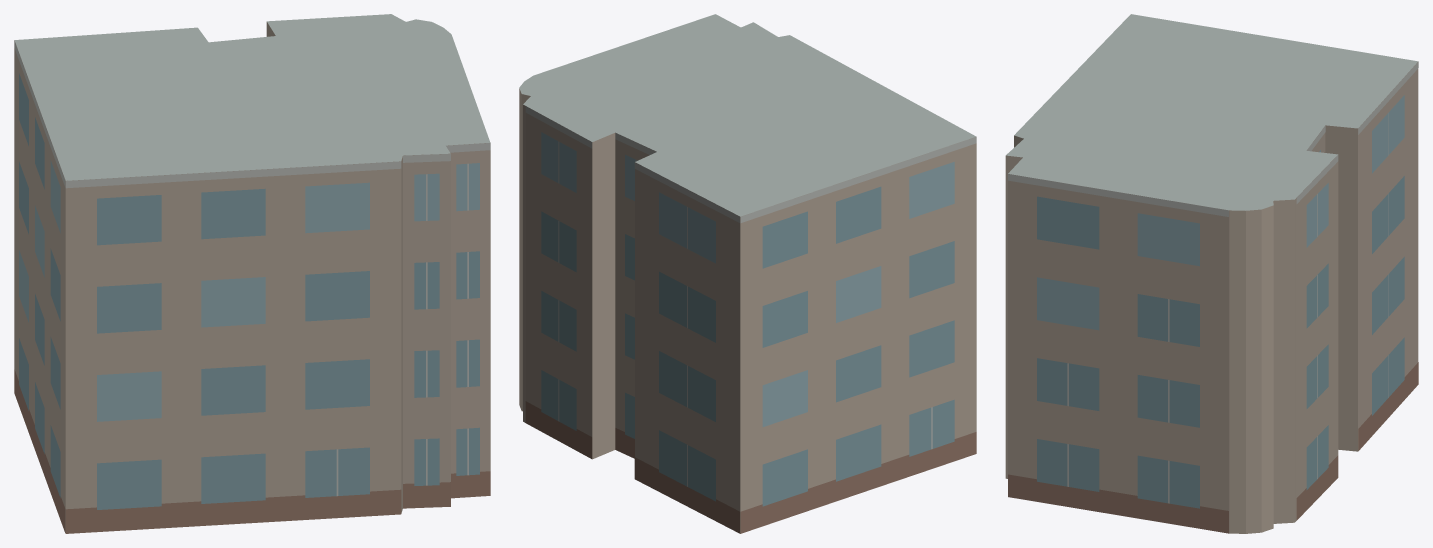
File: survey-upis-32875025.glb
3 views of the same model, side by side, from view 1: azimuth 30°, elevation 25°; view 2: azimuth 150°, elevation 25°; view 3: azimuth 270°, elevation 25° (orthographic). The views are drawn at different scales.
Visible parts, largest first — view 1: survey-upis-32875025.tmp; view 2: survey-upis-32875025.tmp; view 3: survey-upis-32875025.tmp.
Part boxes in pixels (x1,y1,x2,y2): survey-upis-32875025.tmp: [14, 14, 490, 533]; survey-upis-32875025.tmp: [519, 14, 976, 533]; survey-upis-32875025.tmp: [1005, 14, 1418, 533].
Size of the model in its own units: 15.15 by 11.6 by 13.44.
